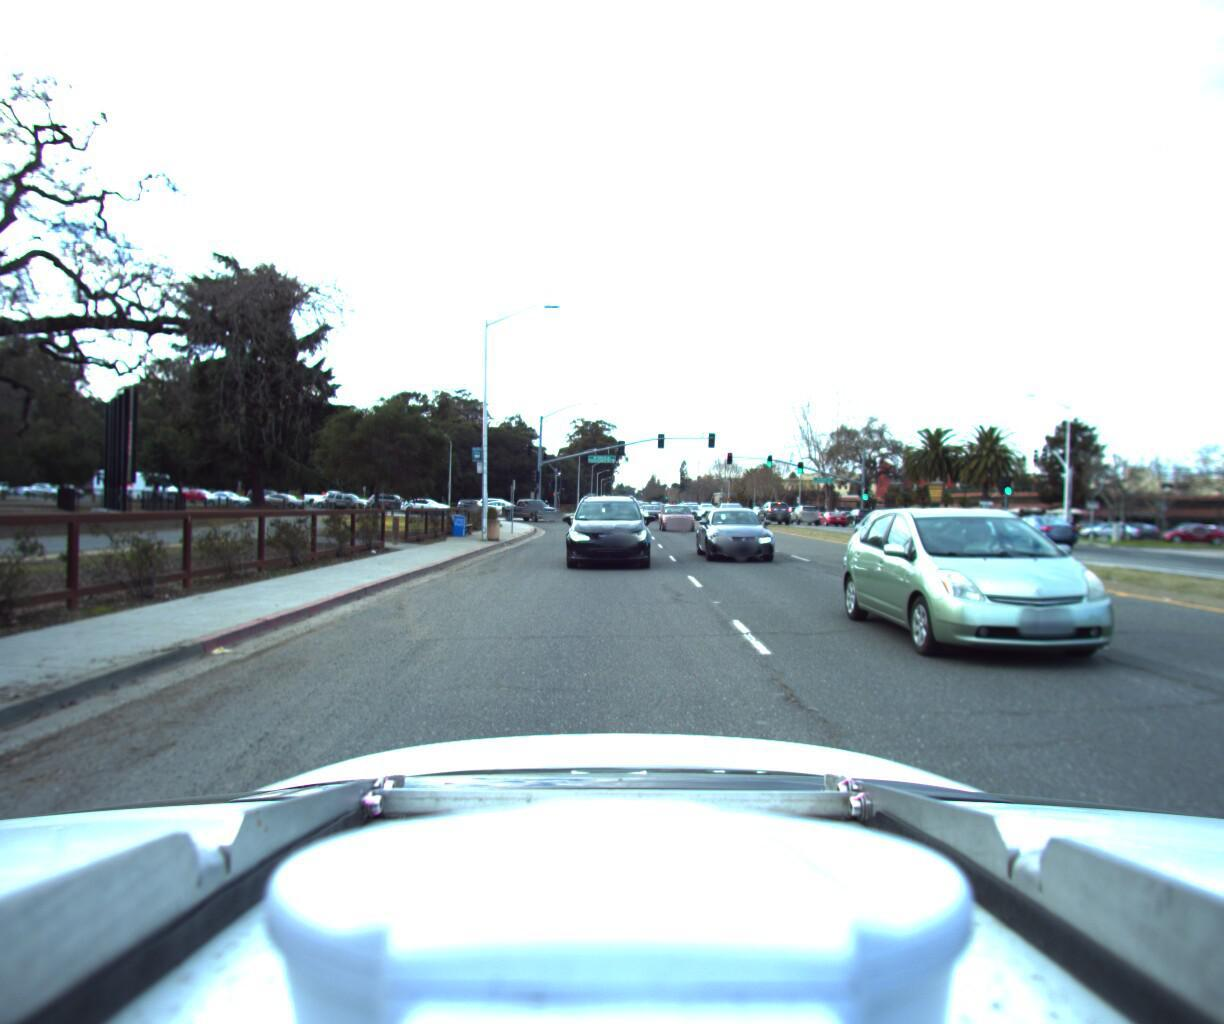car: (855, 498, 1224, 704), (862, 502, 1012, 576), (560, 487, 654, 569), (697, 494, 786, 561), (995, 507, 1088, 542), (951, 508, 1011, 533), (499, 494, 556, 520), (1157, 516, 1224, 537), (1074, 513, 1140, 532), (659, 495, 700, 526), (319, 485, 374, 504), (474, 492, 531, 510), (198, 484, 254, 502), (396, 490, 452, 507), (257, 486, 307, 504), (756, 495, 791, 519), (786, 498, 821, 519), (839, 500, 873, 519), (639, 500, 661, 519)
